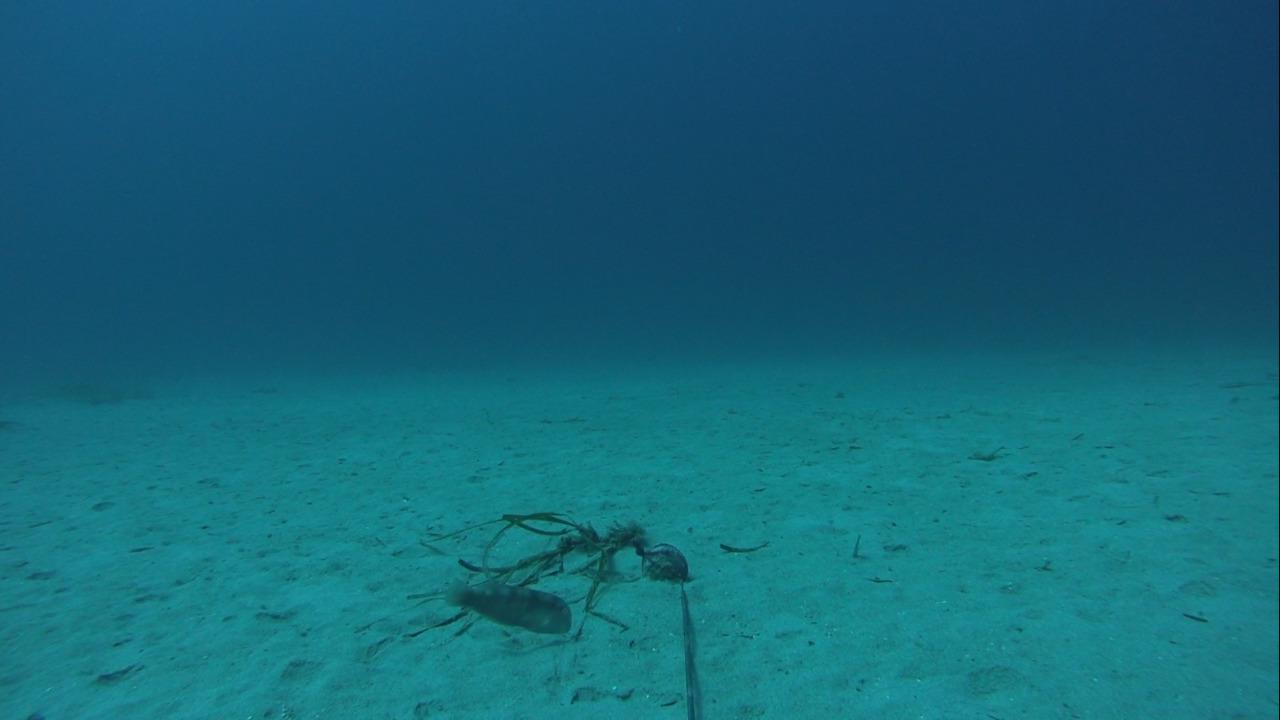raor: (439, 573, 577, 641)
